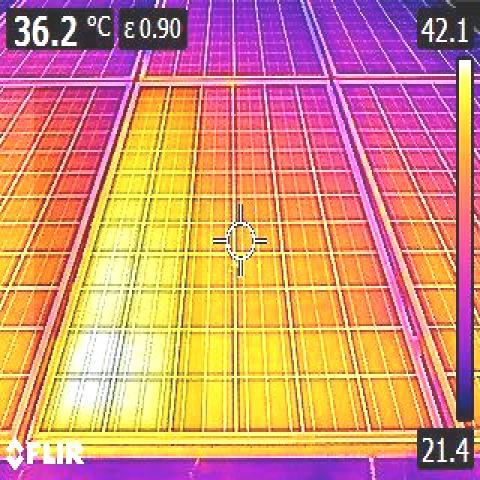fault: (34, 84, 202, 435)
